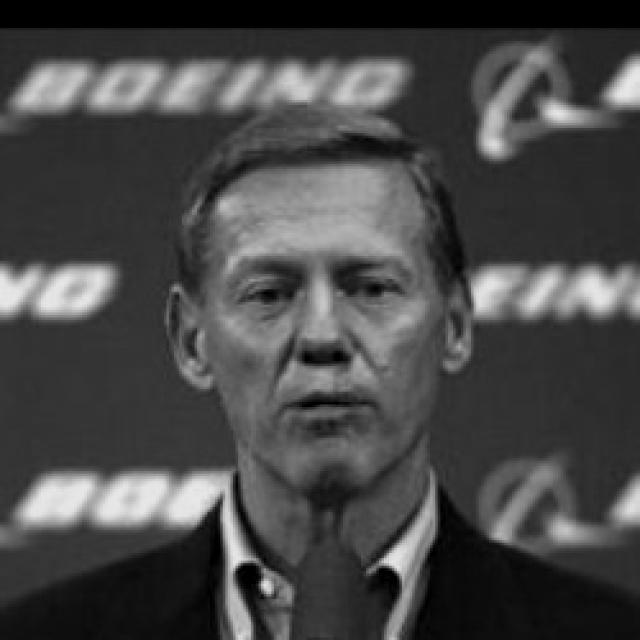real: (204, 166, 442, 494), (229, 260, 413, 320)
